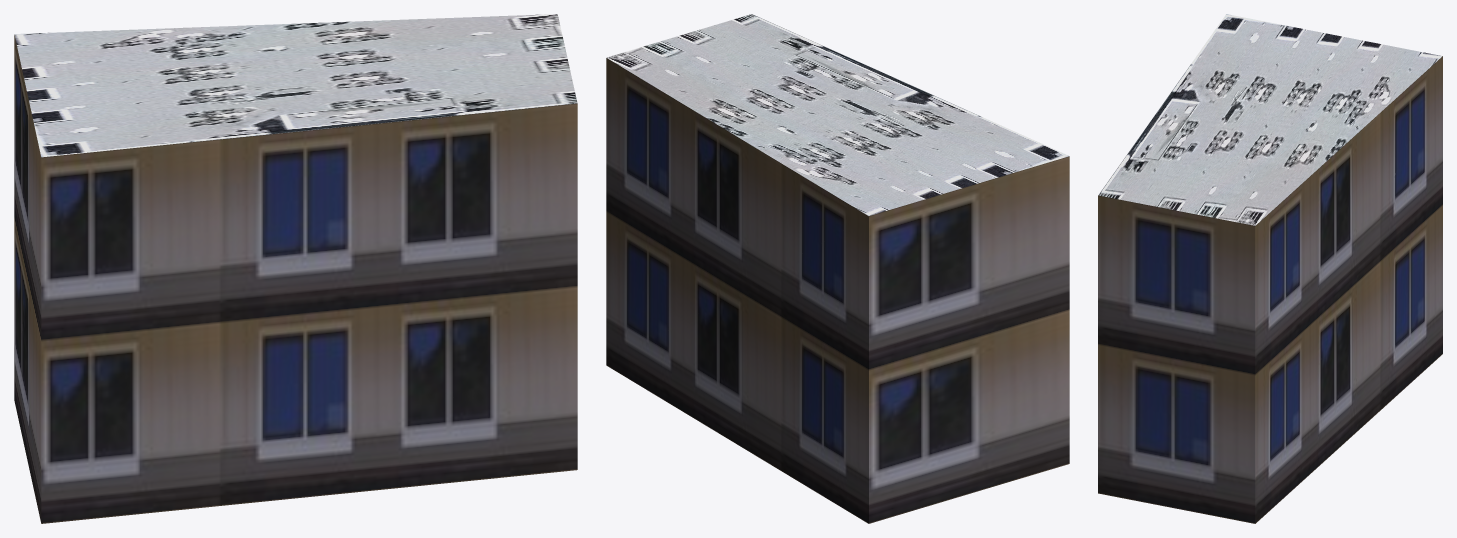
File: ResTex__1217.fbx
3 views of the same model, side by side, from view 1: azimuth 30°, elevation 25°; view 2: azimuth 150°, elevation 25°; view 3: azimuth 270°, elevation 25° (orthographic). The views are drawn at different scales.
Visible parts, largest first — view 1: CityEngineMaterial_5_m, CityEngineMaterial_4_m; view 2: CityEngineMaterial_5_m, CityEngineMaterial_4_m; view 3: CityEngineMaterial_5_m, CityEngineMaterial_4_m.
Part boxes in pixels (x1,y1,x2,y2): CityEngineMaterial_5_m: (14,35,577,523); CityEngineMaterial_4_m: (14,14,577,157); CityEngineMaterial_5_m: (606,58,1069,523); CityEngineMaterial_4_m: (606,14,1069,215); CityEngineMaterial_5_m: (1098,56,1442,523); CityEngineMaterial_4_m: (1098,14,1442,225).
Bounding box in the file's own units: 9.15 × 6 × 6.29.
2 materials, 2 textured.
